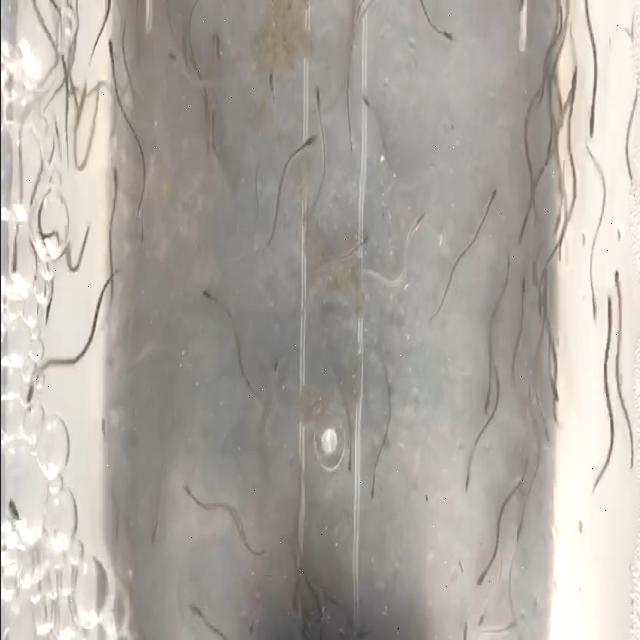active_glass_eel: (610, 260, 628, 322), (476, 578, 496, 626), (5, 488, 22, 538), (266, 61, 284, 108), (19, 377, 39, 419), (512, 508, 528, 560), (312, 83, 326, 142), (202, 286, 226, 320), (208, 37, 225, 85), (474, 554, 496, 590), (407, 204, 428, 240), (163, 46, 187, 76), (106, 37, 121, 84), (484, 181, 498, 231), (518, 274, 530, 330), (182, 487, 204, 516), (110, 164, 122, 217), (588, 90, 600, 142), (292, 131, 316, 157), (548, 366, 562, 410), (481, 371, 495, 415), (626, 162, 640, 205), (188, 603, 208, 633), (550, 196, 566, 232), (434, 24, 458, 48), (540, 130, 555, 168), (603, 286, 615, 333), (588, 288, 601, 330), (40, 284, 52, 328), (352, 236, 372, 262), (515, 218, 531, 250), (566, 63, 578, 105), (366, 460, 378, 502), (8, 245, 20, 285), (460, 468, 478, 493), (344, 443, 354, 485), (358, 95, 374, 120)
